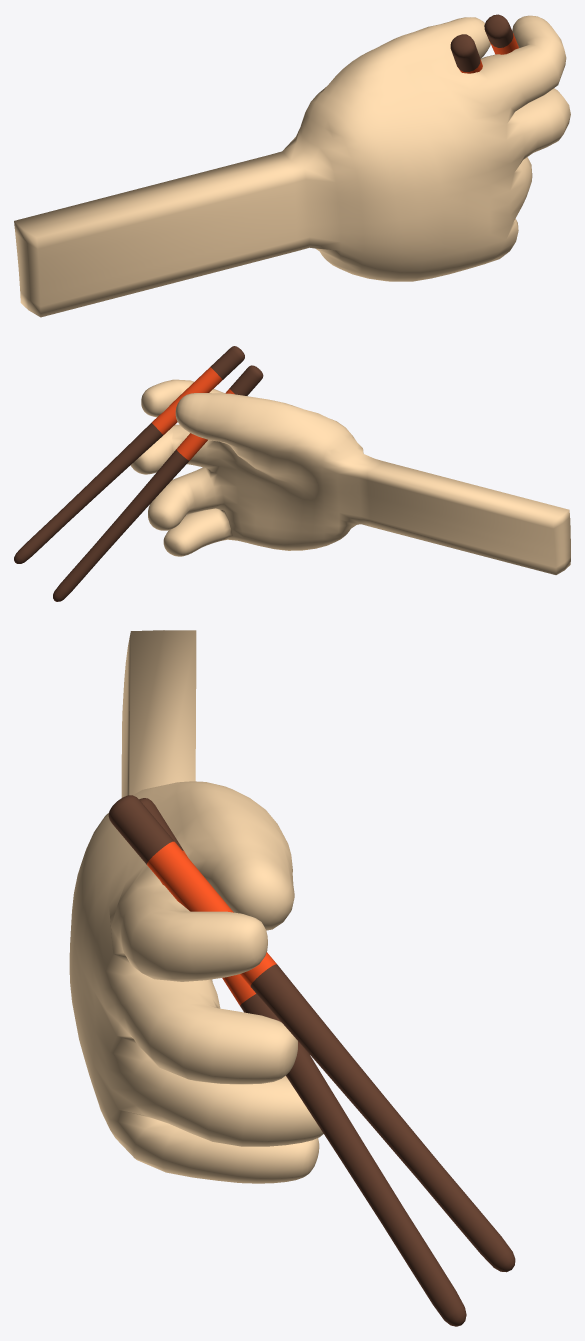
The model's file is hand and chopsticks.glb.
3 renders of one model, top to bottom at view 1: azimuth 30°, elevation 25°; view 2: azimuth 150°, elevation 25°; view 3: azimuth 270°, elevation 25°, orthographic. The views are drawn at different scales.
Parts seen in each view (by area): view 1: hand.001, bottom chopstick.001, top chopstick.001; view 2: hand.001, top chopstick.001, bottom chopstick.001, bands.001; view 3: hand.001, top chopstick.001, bottom chopstick.001, bands.001.
Boxes of the visible parts, left/top/right/bottom form: hand.001: left=14, top=15, right=570, bottom=317; bottom chopstick.001: left=450, top=34, right=480, bottom=71; top chopstick.001: left=484, top=14, right=513, bottom=47; hand.001: left=130, top=379, right=570, bottom=574; top chopstick.001: left=14, top=346, right=244, bottom=563; bottom chopstick.001: left=53, top=365, right=263, bottom=601; bands.001: left=151, top=367, right=234, bottom=460; hand.001: left=69, top=630, right=323, bottom=1183; top chopstick.001: left=108, top=795, right=515, bottom=1272; bottom chopstick.001: left=139, top=798, right=466, bottom=1326; bands.001: left=147, top=841, right=276, bottom=1005.
Size of the model in its own units: 38.01 by 17.12 by 15.86.
